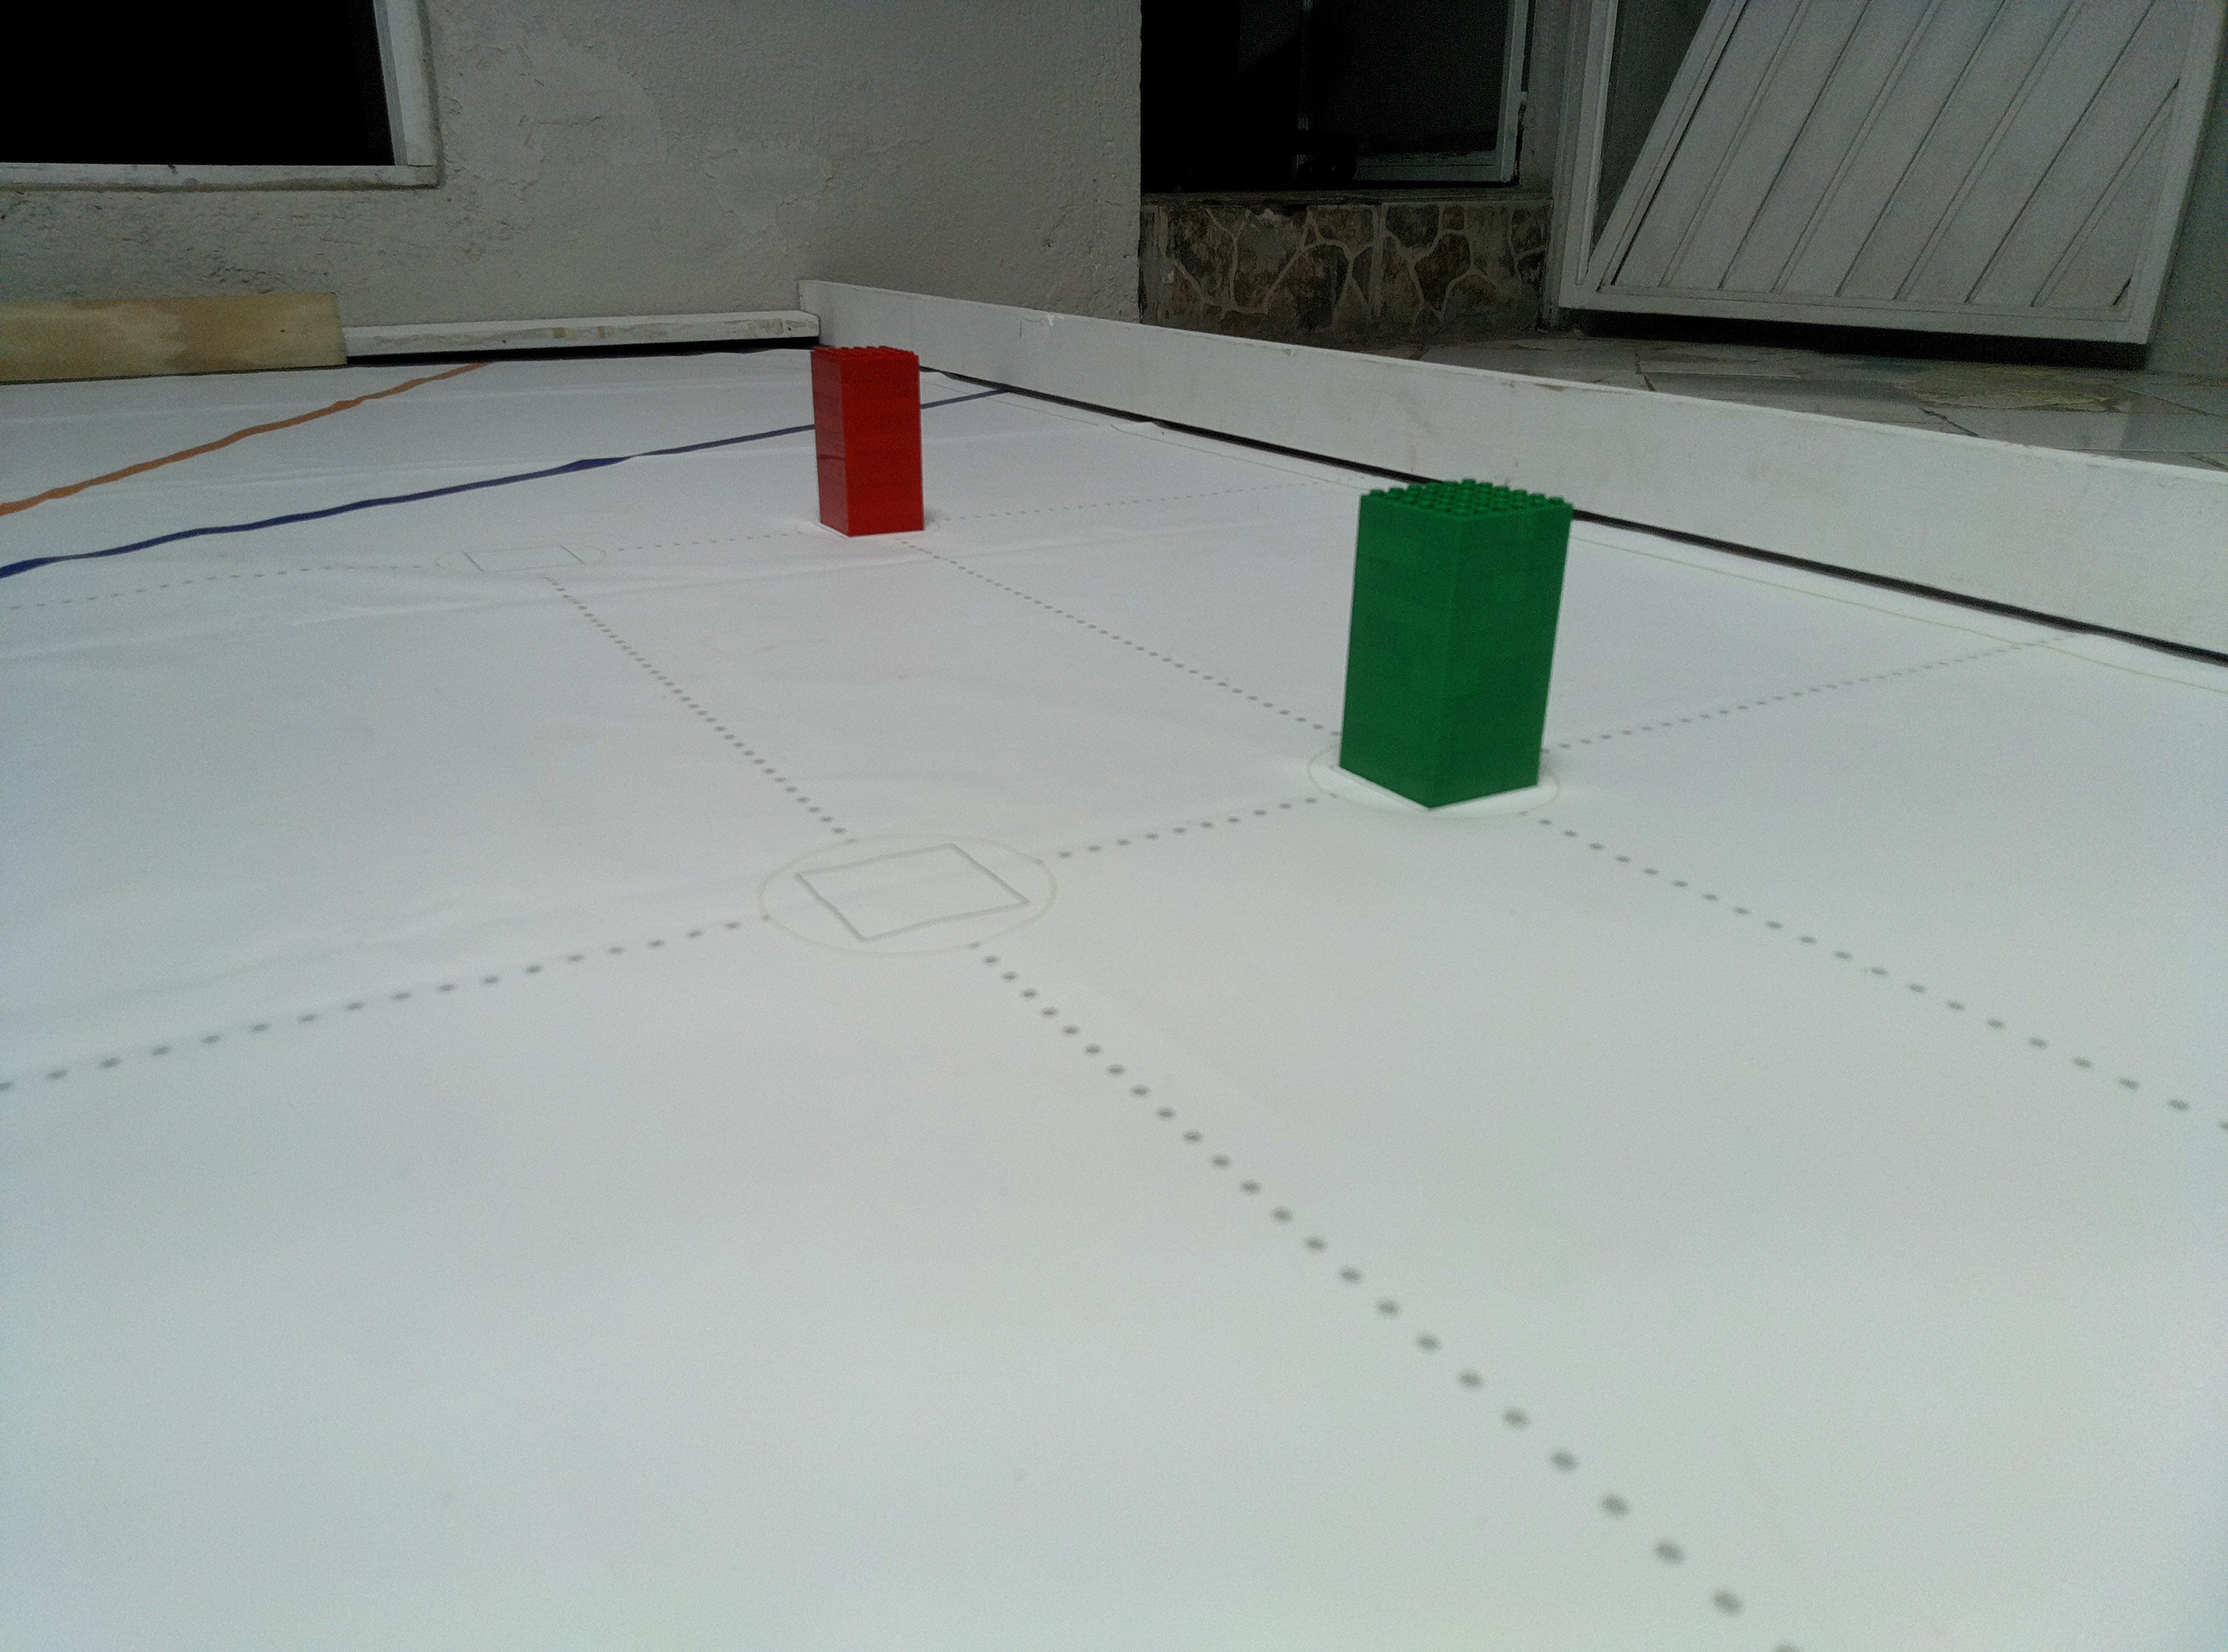greenbox: (1340, 474, 1581, 817)
redbox: (807, 344, 925, 540)
